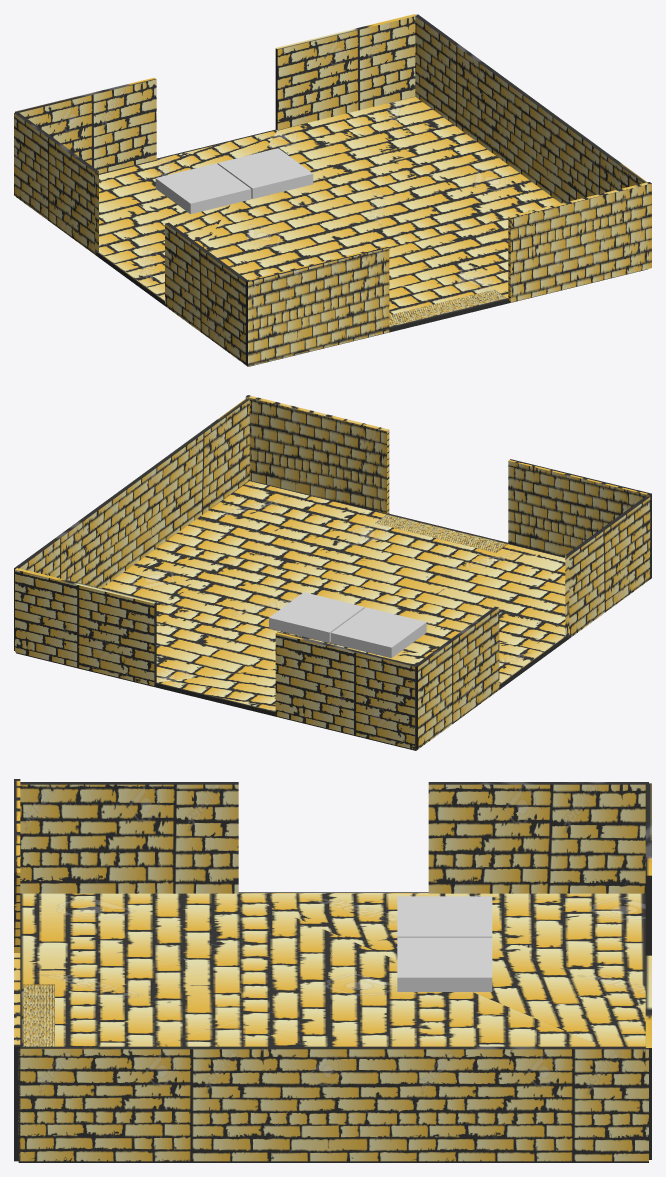
File: hab3_ver2.fbx
3 views of the same model, one above another, from view 1: azimuth 30°, elevation 25°; view 2: azimuth 150°, elevation 25°; view 3: azimuth 270°, elevation 25° (orthographic). The views are drawn at different scales.
Parts seen in each view (by area): view 1: Habitacion, Cube; view 2: Habitacion, Cube; view 3: Habitacion, Cube.
Boxes of the visible parts, <box> form: Habitacion: <box>14,14,651,366</box>; Cube: <box>155,148,313,214</box>; Habitacion: <box>14,395,651,750</box>; Cube: <box>269,592,426,658</box>; Habitacion: <box>14,779,651,1162</box>; Cube: <box>397,896,492,991</box>.
Bounding box in the file's own units: 1000 × 205 × 1007.
